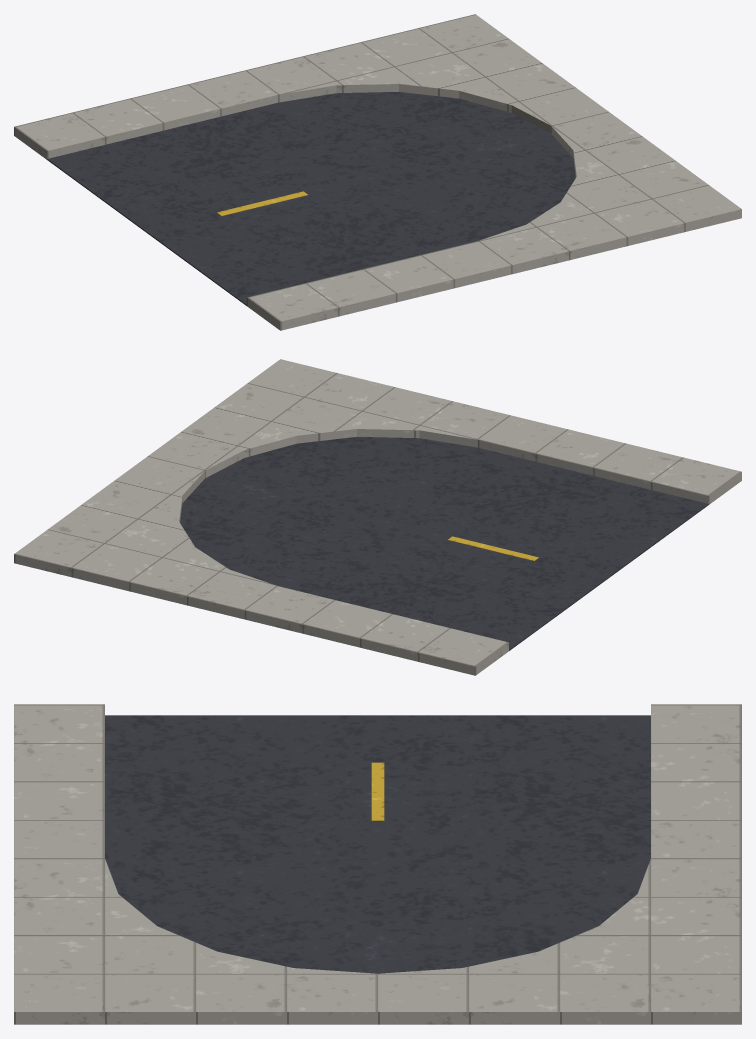
Rendered from road_end.glb.
3 views of the same model, one above another, from view 1: azimuth 30°, elevation 25°; view 2: azimuth 150°, elevation 25°; view 3: azimuth 270°, elevation 25° (orthographic). The views are drawn at different scales.
Visible parts, largest first — view 1: Ground; view 2: Ground; view 3: Ground.
Part boxes in pixels (left/top/right/bottom): Ground: left=14, top=14, right=741, bottom=330; Ground: left=14, top=359, right=741, bottom=675; Ground: left=14, top=704, right=741, bottom=1024.
Size of the model in its own units: 8 by 0.15 by 8.
3 materials, 3 textured.
